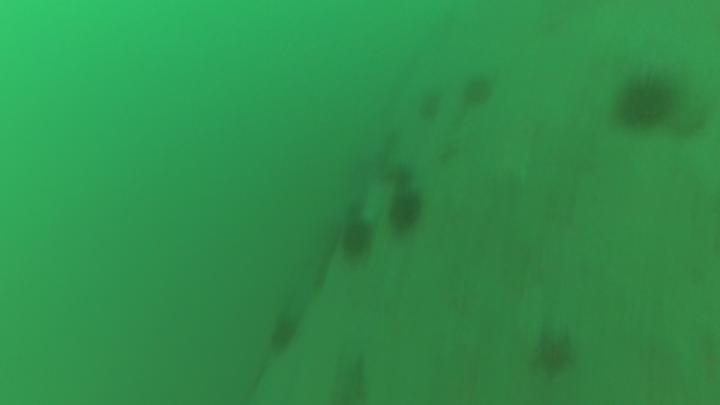echinus: (612, 68, 680, 138), (382, 182, 427, 236), (334, 211, 377, 266)
starfish: (524, 324, 581, 386), (327, 352, 371, 405)
